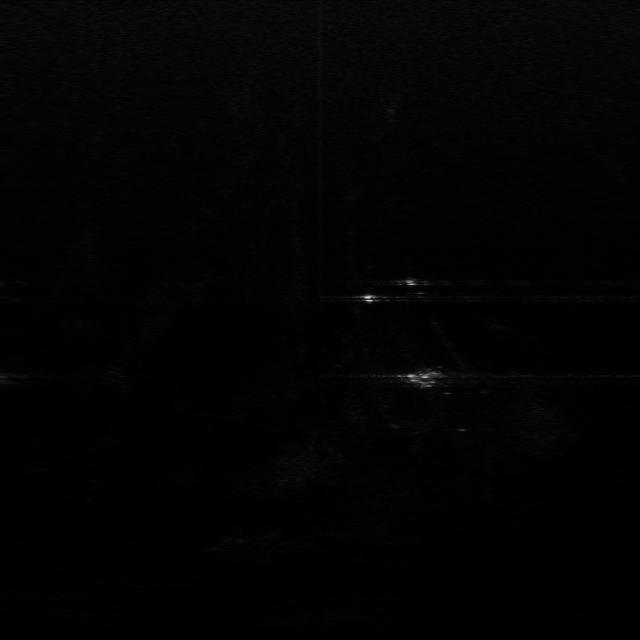rov: (404, 369, 447, 390)
